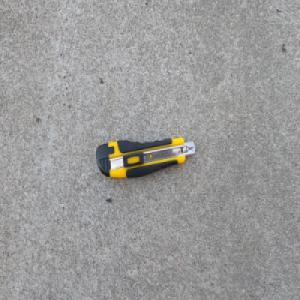Cutter: (93, 134, 196, 181)
